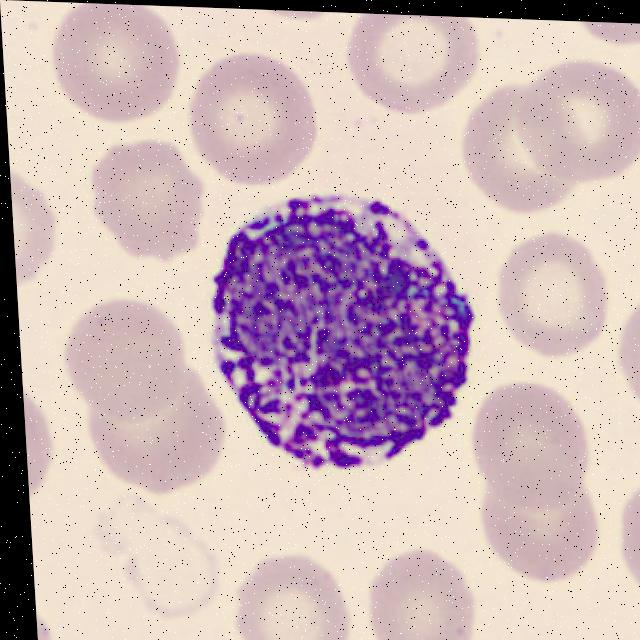basophil: (204, 201, 482, 482)
rbc: (183, 55, 329, 200), (50, 293, 199, 433), (460, 378, 611, 510), (485, 223, 611, 376), (77, 388, 234, 505), (55, 2, 183, 142), (84, 136, 208, 279), (449, 97, 590, 221), (337, 12, 483, 127), (511, 53, 640, 181), (219, 537, 355, 640), (354, 529, 479, 640), (478, 478, 605, 584), (10, 161, 72, 298), (23, 376, 63, 504), (614, 288, 640, 432), (618, 476, 640, 610), (564, 21, 640, 50), (249, 9, 332, 34)
